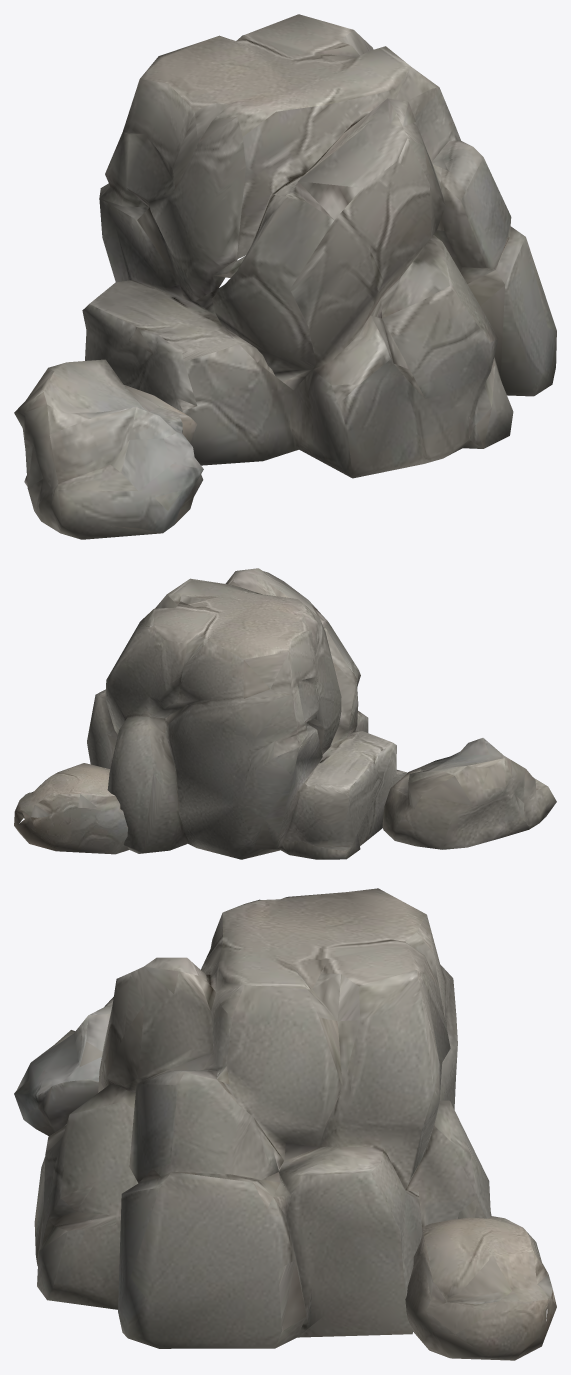
File: rock_jagged.gltf
3 views of the same model, one above another, from view 1: azimuth 30°, elevation 25°; view 2: azimuth 150°, elevation 25°; view 3: azimuth 270°, elevation 25° (orthographic). The views are drawn at different scales.
Visible parts, largest first — view 1: rock_jagged; view 2: rock_jagged; view 3: rock_jagged.
Part boxes in pixels (x1,y1,x2,y2): rock_jagged: [14, 14, 556, 539]; rock_jagged: [14, 568, 556, 859]; rock_jagged: [14, 888, 556, 1360].
Bounding box in the file's own units: 1.33 × 0.677 × 1.05.
1 material, 1 textured.
